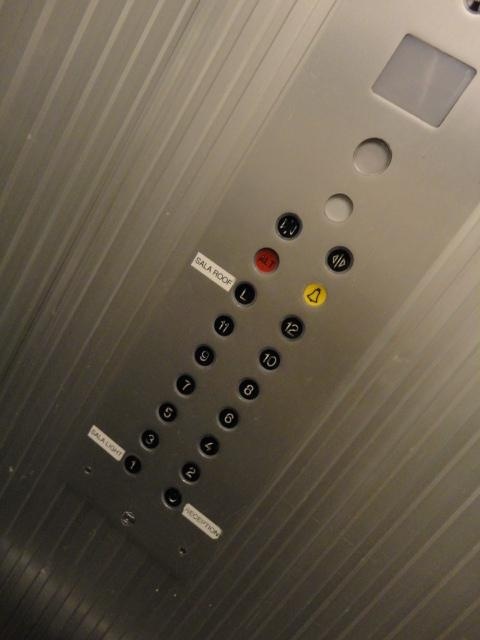1: (121, 454, 142, 477)
10: (257, 347, 282, 371)
11: (213, 314, 236, 338)
12: (279, 314, 306, 341)
2: (177, 460, 202, 485)
3: (140, 429, 161, 451)
4: (197, 434, 220, 458)
5: (156, 402, 178, 424)
6: (216, 406, 240, 430)
7: (174, 373, 196, 397)
8: (236, 376, 262, 401)
9: (192, 343, 216, 367)
ALT: (253, 247, 280, 274)
L: (231, 281, 258, 308)
alarm: (301, 282, 327, 307)
blur: (160, 485, 183, 511), (118, 510, 135, 529)
close: (276, 210, 304, 240)
led: (371, 34, 478, 129)
open: (325, 243, 354, 275)
